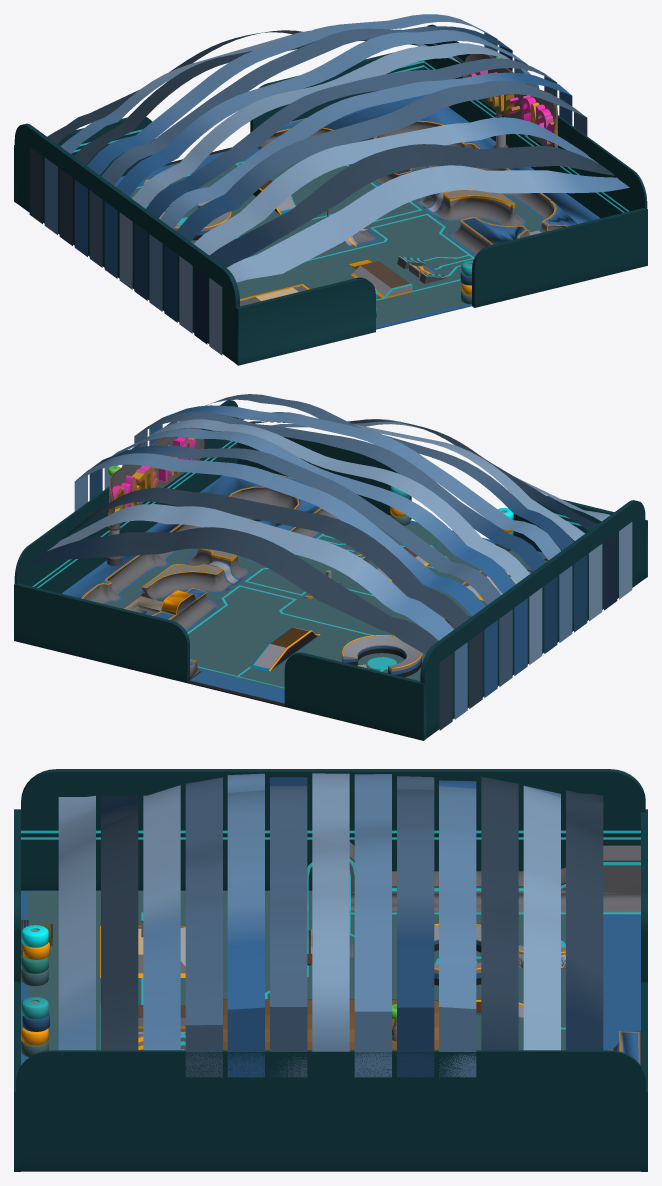
Rendered from skate-park.glb.
3 renders of one model, top to bottom at view 1: azimuth 30°, elevation 25°; view 2: azimuth 150°, elevation 25°; view 3: azimuth 270°, elevation 25°, orthographic. The views are drawn at different scales.
Parts seen in each view (by area): view 1: roof.ribbons, ground, wall.south.014, pipe.main, wall.west.013, wall.south.007, wall.east.013, ramp.rectangular.01, bigSign.text, wall.north.014, bigSign.board, wall.north.007 (+3 smaller); view 2: roof.ribbons, ground, pipe.main, wall.north.014, wall.west.013, wall.north.007, wall.east.013, wall.south.014, grindcurve.01, ramp.rectangular.03, bigSign.text, bigSign.board (+3 smaller); view 3: roof.ribbons, wall.east.013, wall.west.013, ground, pipe.west.001, bigSign.board, wall.north.014, wall.south.014, wall.south.007, wall.north.007, neons.002, ramp.rectangular.02 (+1 smaller).
Boxes of the visible parts, x1,y1,x2,y2 form: roof.ribbons: (29, 14, 629, 355); ground: (114, 147, 541, 329); wall.south.014: (472, 208, 647, 307); pipe.main: (257, 94, 600, 255); wall.west.013: (14, 123, 239, 363); wall.south.007: (235, 277, 375, 365); wall.east.013: (424, 24, 647, 218); ramp.rectangular.01: (349, 260, 412, 299); bigSign.text: (469, 70, 554, 144); wall.north.014: (250, 46, 424, 132); bigSign.board: (463, 54, 557, 147); wall.north.007: (14, 117, 154, 202); roof.ribbons: (32, 394, 632, 730); ground: (106, 515, 547, 740); pipe.main: (62, 473, 338, 679); wall.north.014: (14, 583, 189, 682); wall.west.013: (420, 500, 645, 739); wall.north.007: (284, 652, 426, 740); wall.east.013: (14, 400, 239, 593); wall.south.014: (237, 436, 411, 519); grindcurve.01: (342, 636, 421, 677); ramp.rectangular.03: (250, 627, 320, 671); bigSign.text: (112, 437, 196, 511); bigSign.board: (109, 427, 204, 526); roof.ribbons: (58, 773, 603, 1077); wall.east.013: (16, 1050, 645, 1171); wall.west.013: (21, 769, 645, 890); ground: (21, 890, 640, 1065); pipe.west.001: (349, 842, 640, 914); bigSign.board: (223, 999, 438, 1050); wall.north.014: (641, 981, 647, 1171); wall.south.014: (14, 981, 20, 1171); wall.south.007: (14, 809, 20, 981); wall.north.007: (641, 809, 647, 981); neons.002: (21, 830, 640, 839); ramp.rectangular.02: (100, 926, 185, 977).
Size of what is drawn, in the model's own units: 94.96 by 38.46 by 90.
2 materials, 2 textured.
